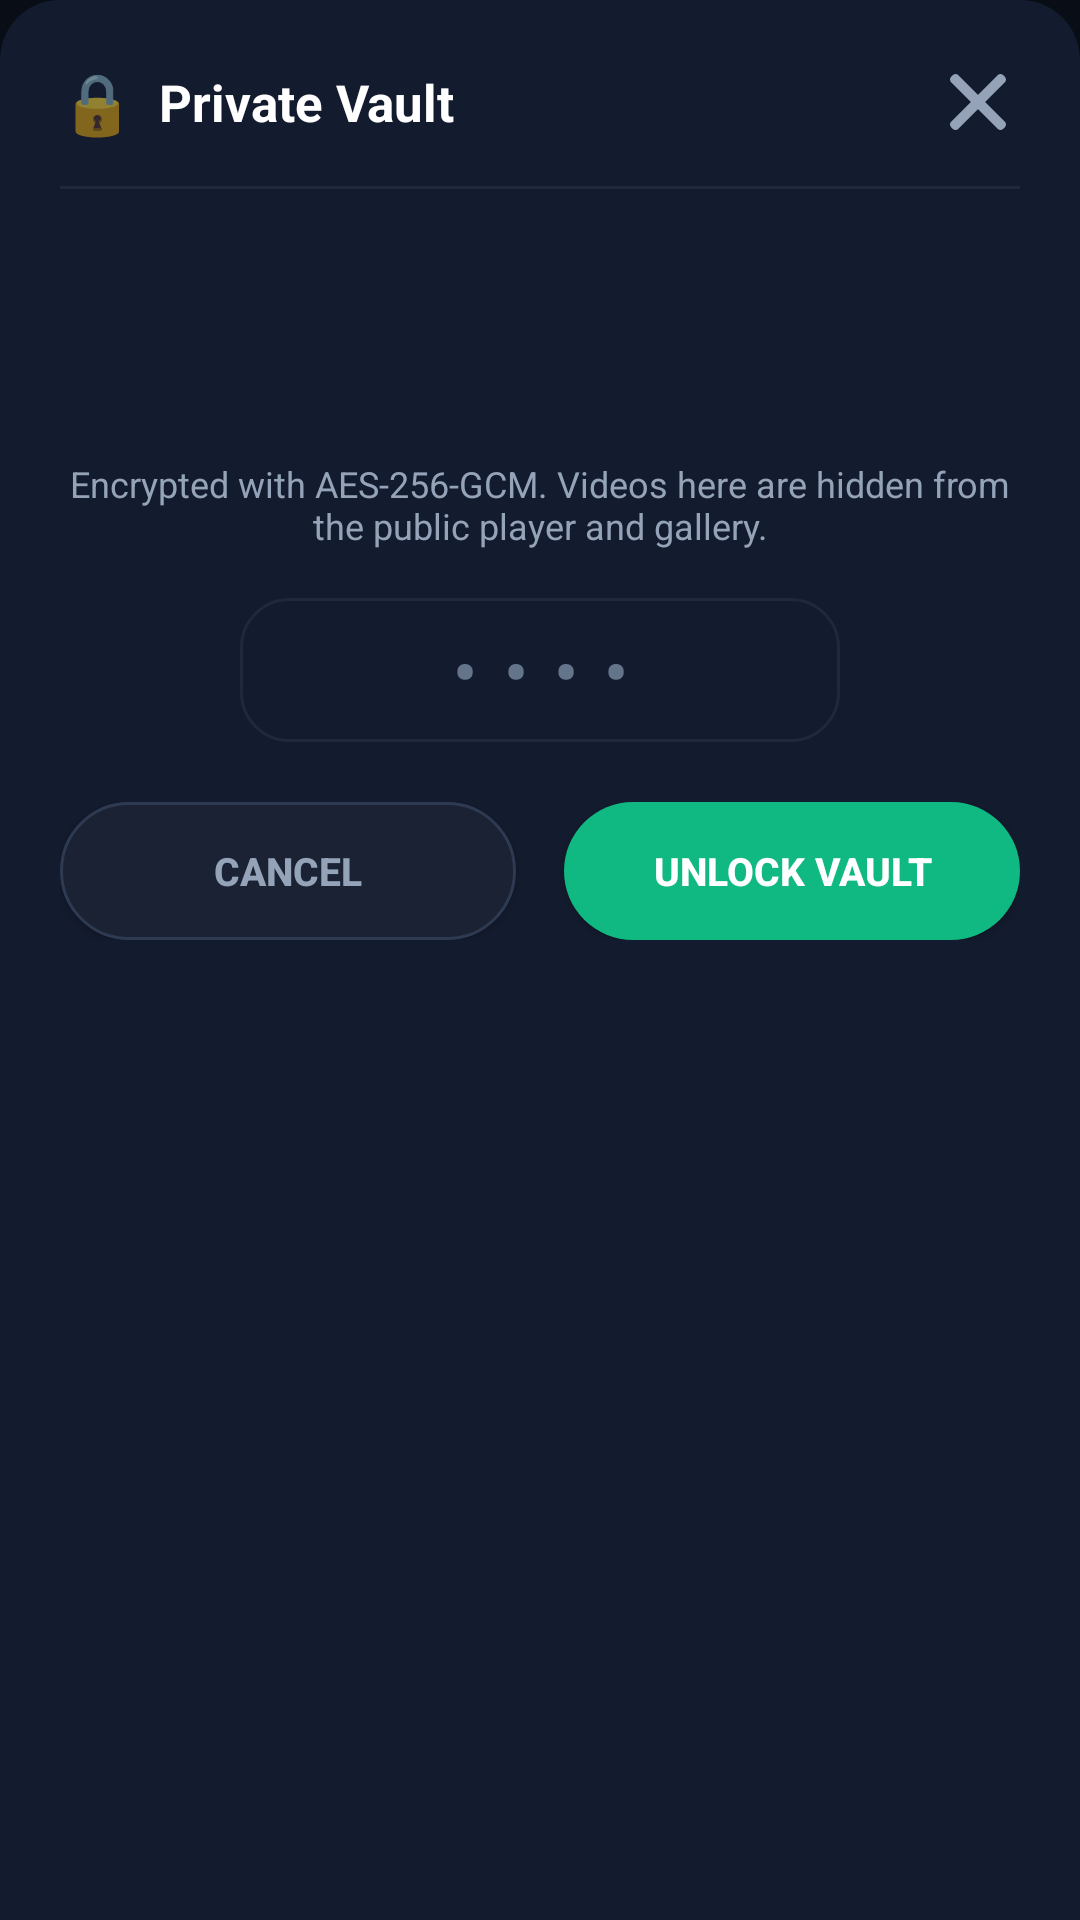

Icon click points for this 1080 × 1920 phone screenshot, format [x,y]:
Close: [978,102]
